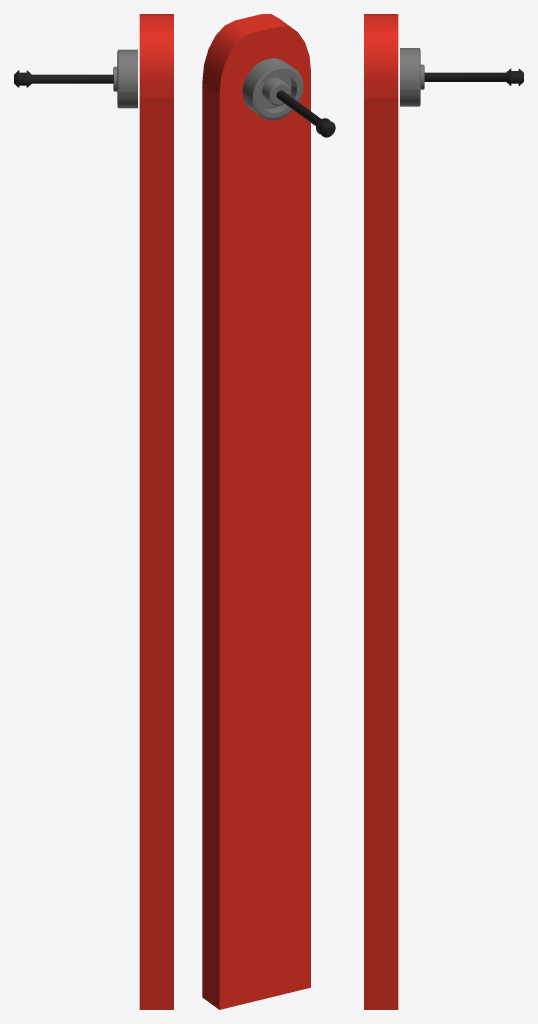
Rendered from GullePlatform (2).fbx.
3 renders of one model, left to right at view 1: azimuth 90°, elevation 25°; view 2: azimuth 210°, elevation 25°; view 3: azimuth 270°, elevation 25°, orthographic.
Parts seen in each view (by area): view 1: Cube.001; view 2: Cube.001; view 3: Cube.001.
Part boxes in pixels (box(x1,y1,x2,y2)): Cube.001: box(14, 14, 173, 1009); Cube.001: box(202, 14, 335, 1009); Cube.001: box(364, 14, 523, 1009).
Size of the model in its own units: 48.73 by 493 by 73.88.
